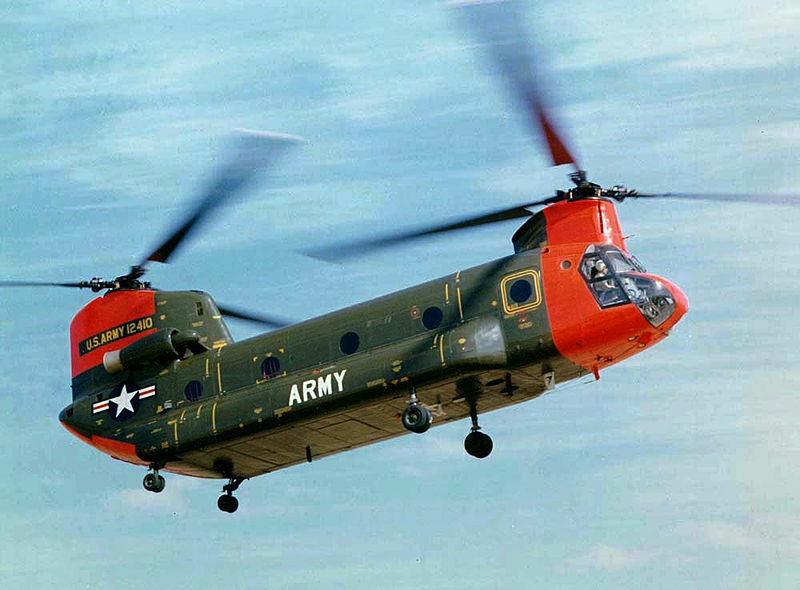chinook: (46, 121, 701, 521)
